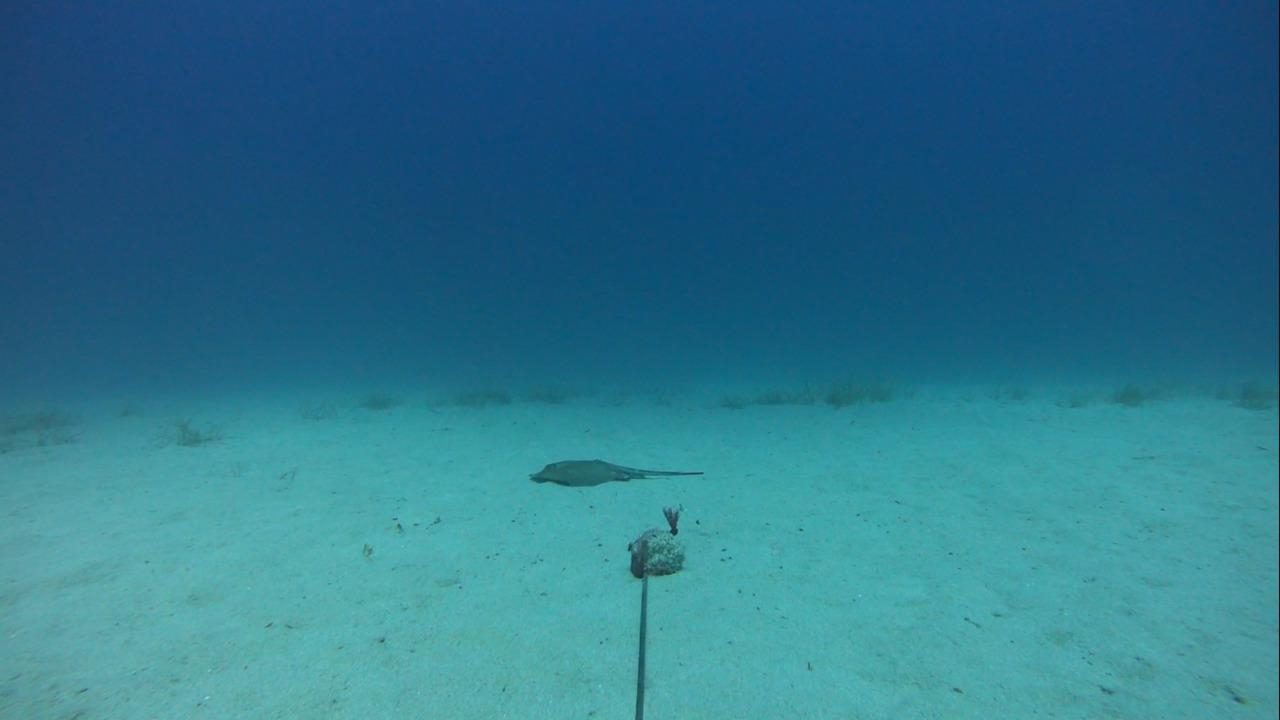myliobatis: (528, 451, 708, 492)
